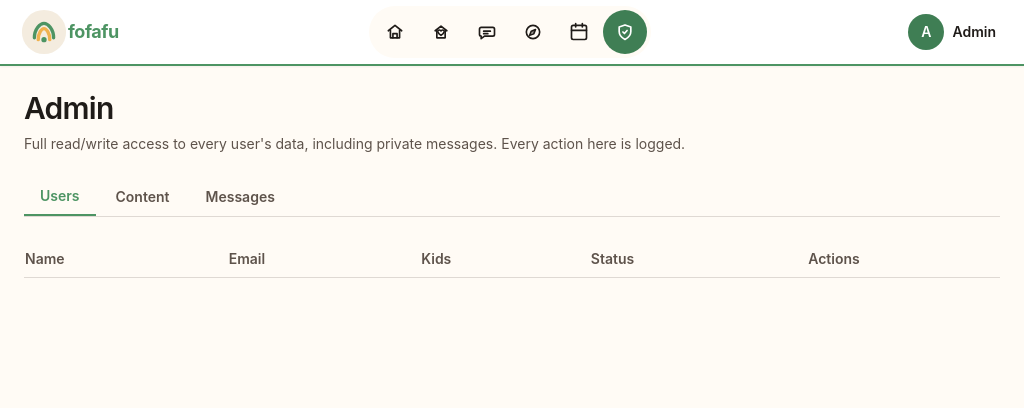
Test case: AdminPage › Content tab: edits an announcement and deletes it
Click the tab "Content". click: (142, 197)
box: [100,178,186,216]
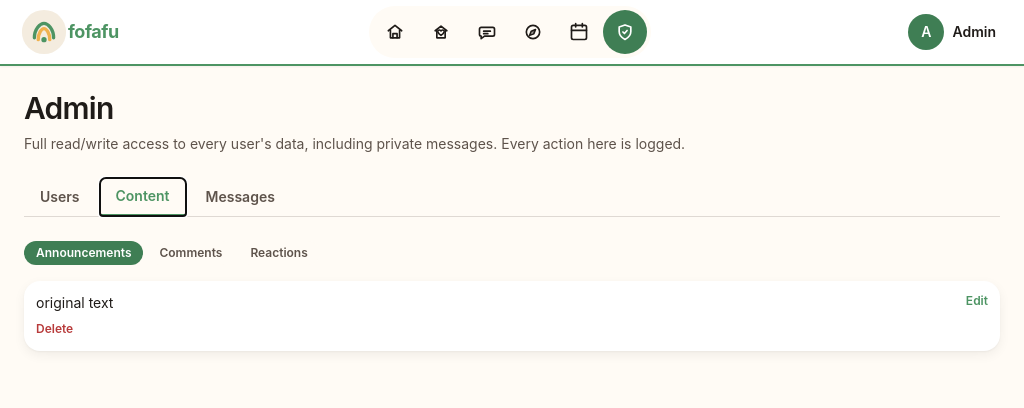
Result: the text "original text" is shown at [36,293,113,313]
Click the button "Edit". click: (977, 301)
box: [966,293,988,309]
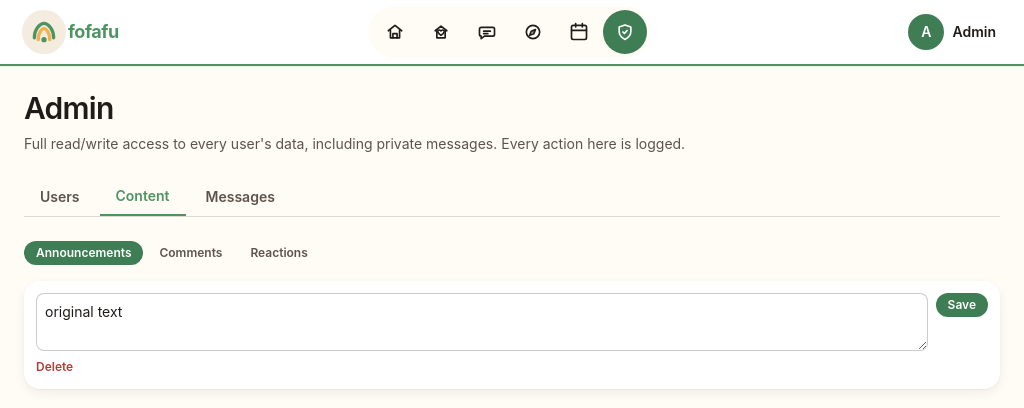
Replace the text in the text box showing "original text" with "edited text". click: (482, 322)
box: [36,293,928,351]
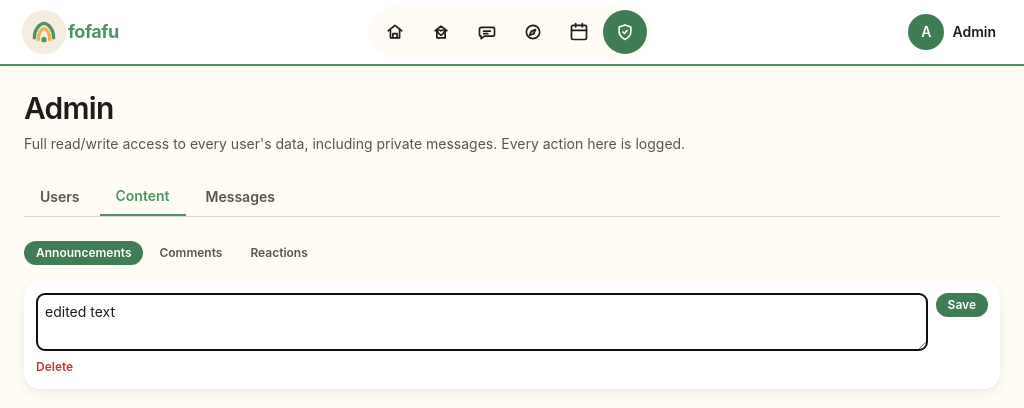
Click the button "Save". click: (962, 305)
box: [936,293,988,317]
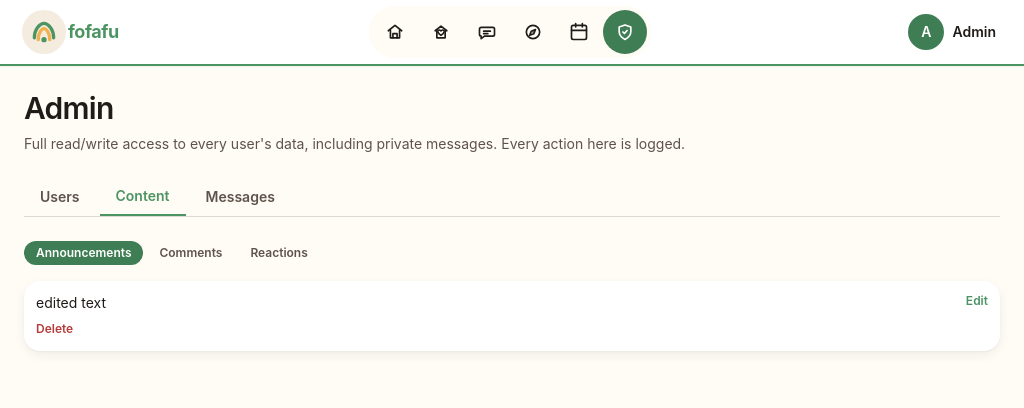
Result: the text "edited text" is shown at [36,293,106,313]
Click the button "Delete". click: (55, 329)
box: [36,321,73,337]
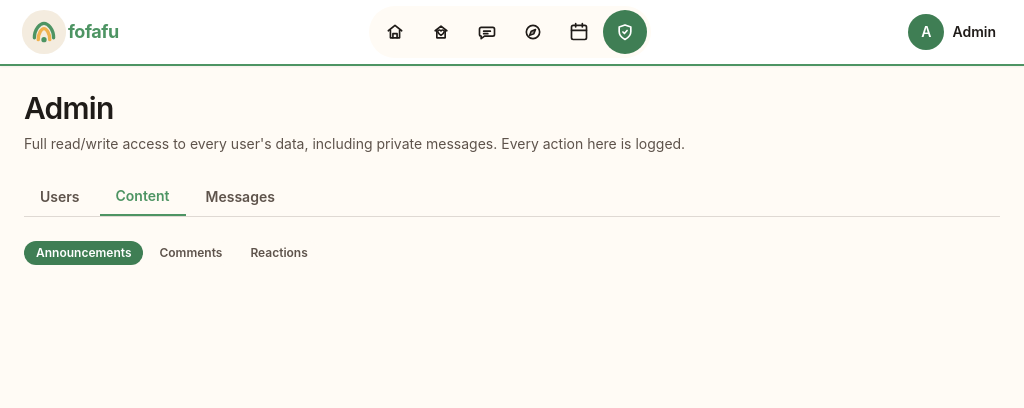
Result: the text "edited text" is gone
